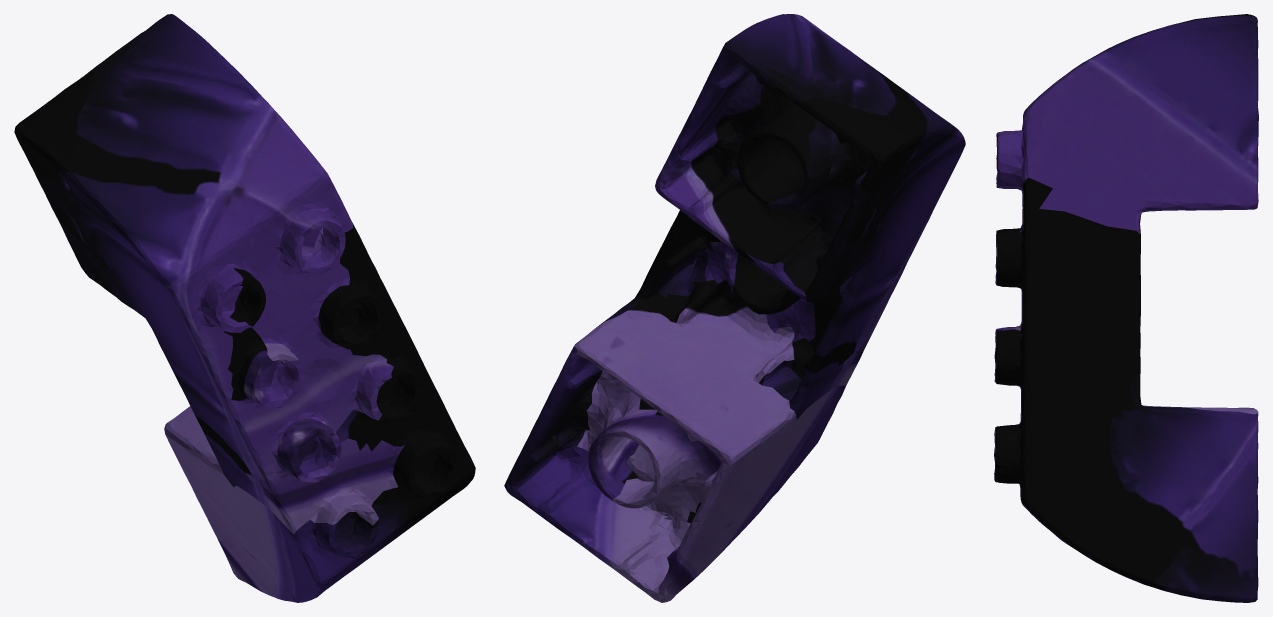
3 views of the same model, side by side, from view 1: azimuth 30°, elevation 25°; view 2: azimuth 150°, elevation 25°; view 3: azimuth 270°, elevation 25° (orthographic). The views are drawn at different scales.
Parts seen in each view (by area): view 1: node; view 2: node; view 3: node.
Boxes of the visible parts, <box> form: node: <box>14,14,475,602</box>; node: <box>504,14,965,602</box>; node: <box>994,14,1258,602</box>.
Size of the model in its own units: 0.0689 by 0.0998 by 0.0432.
